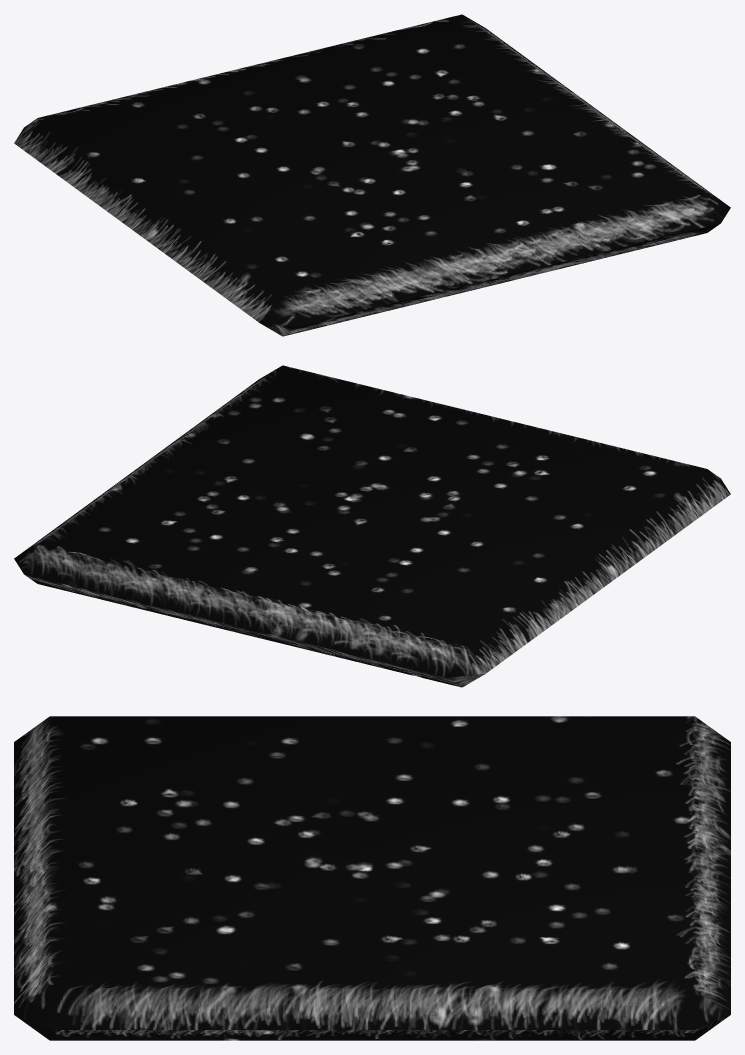
Rendered from lakritzplattform.fbx.
3 views of the same model, one above another, from view 1: azimuth 30°, elevation 25°; view 2: azimuth 150°, elevation 25°; view 3: azimuth 270°, elevation 25° (orthographic). The views are drawn at different scales.
Parts seen in each view (by area): view 1: Cube; view 2: Cube; view 3: Cube.
Boxes of the visible parts, bbox=[...] form: Cube: bbox=[14, 14, 730, 336]; Cube: bbox=[14, 365, 730, 687]; Cube: bbox=[14, 716, 730, 1040].
Size of the model in its own units: 3 by 0.2381 by 3.
1 material, 1 textured.
